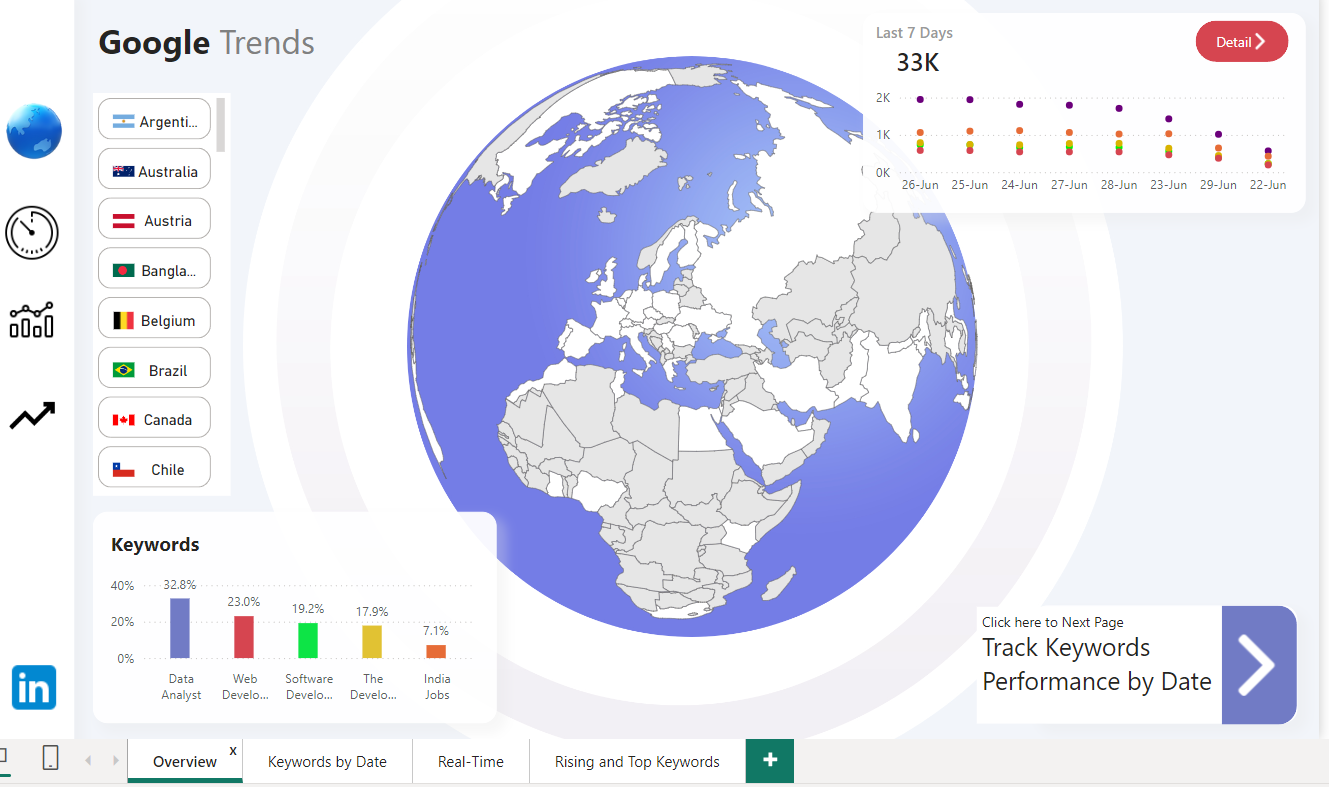

This screenshot's page, from the dashboard's own definition file:
{"tool":"powerbi","page":{"name":"Overview","canvas":[1280,720],"ordinal":0},"visuals":[{"type":"advancedSlicerVisual","fields":{"Values":["Country_API.Country"]},"box":[96.5,96.5,132.7,388.5],"z":0},{"type":"shapeMap","fields":{"Category":["Country_API.Country"]},"box":[367.8,27.4,617.5,617.5],"z":1000},{"type":"shape","box":[2.5,0,76.2,720],"z":2000},{"type":"shape","box":[96.5,500.7,389.7,203.9],"z":3000},{"type":"shape","box":[840,18.8,427.5,192.5],"z":4000},{"type":"shape","box":[1003.8,591.2,255,113.8],"z":5000},{"type":"actionButton","box":[1186.2,591.2,72.5,115],"z":6000},{"type":"clusteredColumnChart","title":"Keywords","fields":{"Y":["Country_Measures.Country_Value"],"Category":["Country_API.Keywords"]},"box":[108.6,518.8,360.7,173.7],"z":7000},{"type":"lineChart","fields":{"Y":["Past_7_Days_Searches.Last_7_Days_Value"],"Series":["Past_7_Days_Searches.Keywords"],"Category":["Past_7_Days_Searches.New_Date"]},"box":[847.5,86.2,411.2,117.5],"z":8000},{"type":"actionButton","box":[1160,26.2,90,40],"z":9000},{"type":"card","title":"Last 7 Days","fields":{"Values":["Past_7_Days_Searches.Last_7_Days_Value"]},"box":[847.5,27.5,91.2,60],"z":10000},{"type":"textbox","box":[950,592.5,236.2,112.5],"z":11000},{"type":"image","box":[0,96.2,78.8,73.8],"z":12000},{"type":"image","box":[11.2,381.2,53.8,53.8],"z":13000},{"type":"image","box":[3.8,198.8,70,66.2],"z":14000},{"type":"image","box":[8.8,286.2,58.8,58.8],"z":15000},{"type":"image","box":[0,637.5,78.8,66.2],"z":16000},{"type":"textbox","box":[96.2,18.8,231.2,53.8],"z":17000}]}

Visuals, with their boxes on the page's 1280x720 design canvas (x1, y1, x2, y2). These are canvas units, not pixel positions in the 1329x787 screenshot, which may show the page scaled, cropped or inside an application window:
advancedSlicerVisual - Country_API.Country: 96:96:229:485
shapeMap - Country_API.Country: 368:27:985:645
shape: 2:0:79:720
shape: 96:501:486:705
shape: 840:19:1268:211
shape: 1004:591:1259:705
actionButton: 1186:591:1259:706
"Keywords" clusteredColumnChart: 109:519:469:692
lineChart - Past_7_Days_Searches.Last_7_Days_Value x Past_7_Days_Searches.Keywords: 848:86:1259:204
actionButton: 1160:26:1250:66
"Last 7 Days" card: 848:28:939:88
textbox: 950:592:1186:705
image: 0:96:79:170
image: 11:381:65:435
image: 4:199:74:265
image: 9:286:68:345
image: 0:638:79:704
textbox: 96:19:327:73
